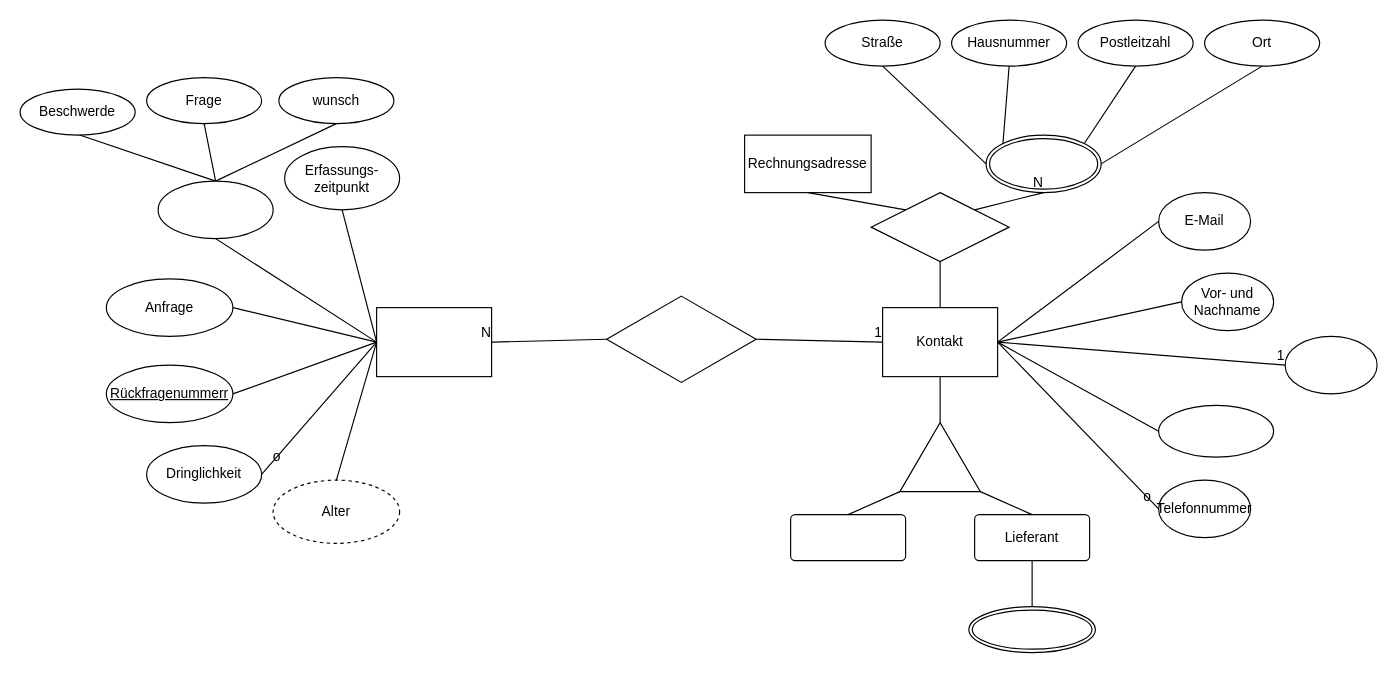
Image size: 1397x673. Some labels were removed from this diagram. The shapes that lost their labels are listed below. From the top down, each one's centre as x and y in pixels, then its label:
At [1043,163]: "Hausanschriften".
At [215,209]: "Thema".
At [939,226]: "besitzt".
At [433,341]: "Rückfragen".
At [680,338]: "Stellt von".
At [1330,364]: "Anrede".
At [1215,430]: "Kontaktid".
At [847,537]: "Kunde".
At [1031,629]: "Lieferungszeitraum".
